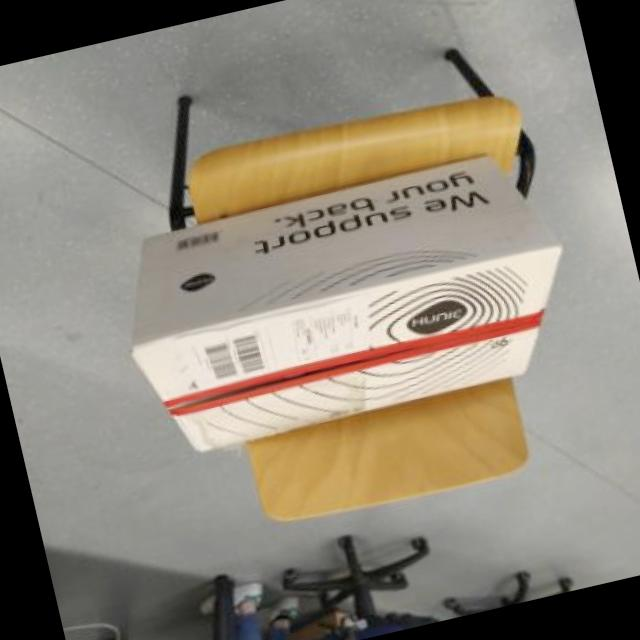box: (40, 103, 630, 540)
